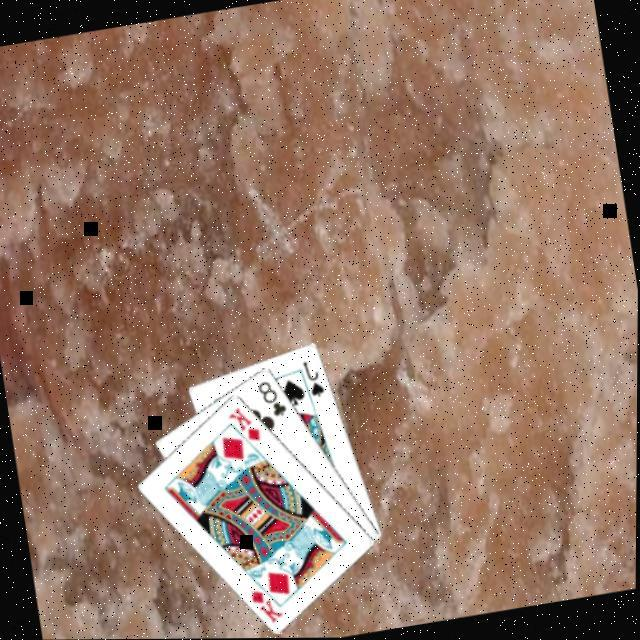8C: (256, 376, 292, 424)
JS: (301, 358, 331, 403)
KD: (226, 402, 266, 450), (249, 585, 289, 631)
